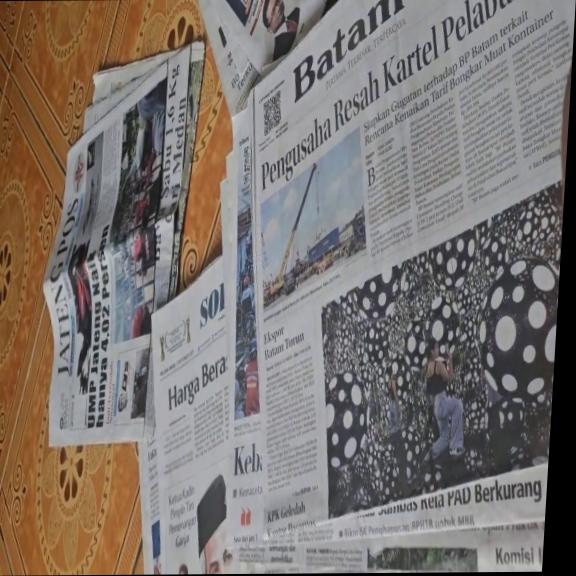Kertas: (168, 8, 569, 569), (71, 68, 203, 445), (129, 240, 261, 574)
